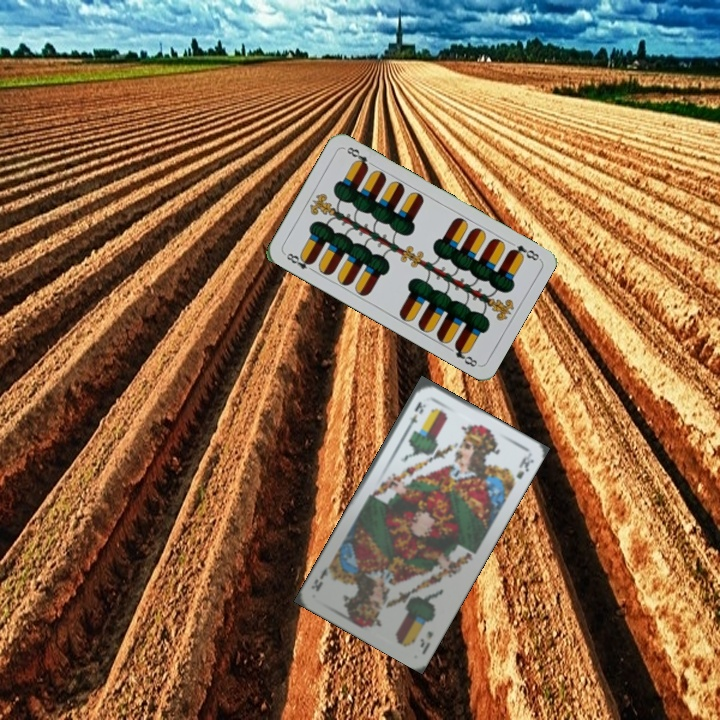E8: (280, 249, 318, 275), (504, 237, 542, 263)
EK: (403, 397, 429, 432), (416, 627, 436, 657)
